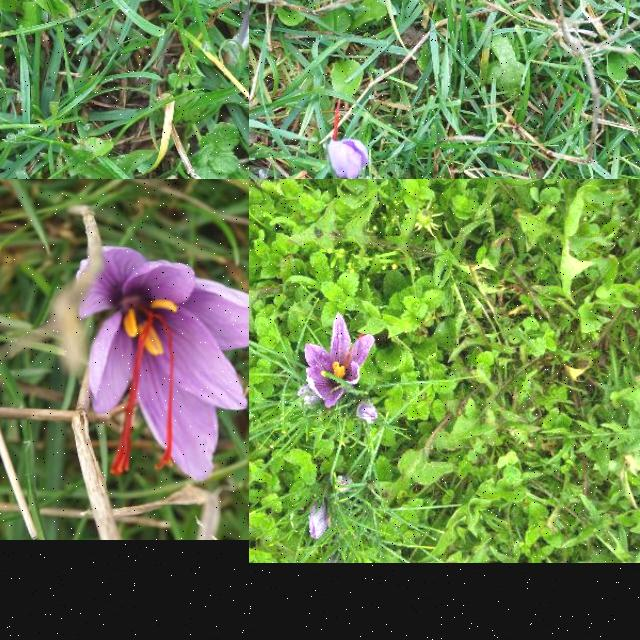flower: (75, 247, 249, 482), (305, 313, 377, 409), (329, 99, 369, 177), (306, 504, 332, 540)
